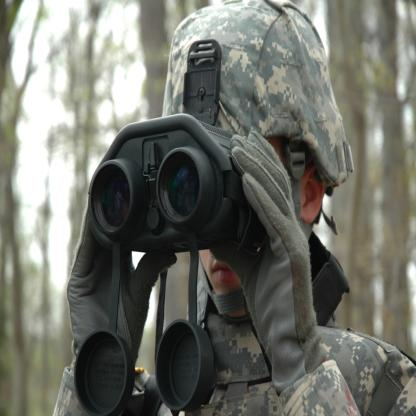Helmet: (154, 19, 345, 176)
